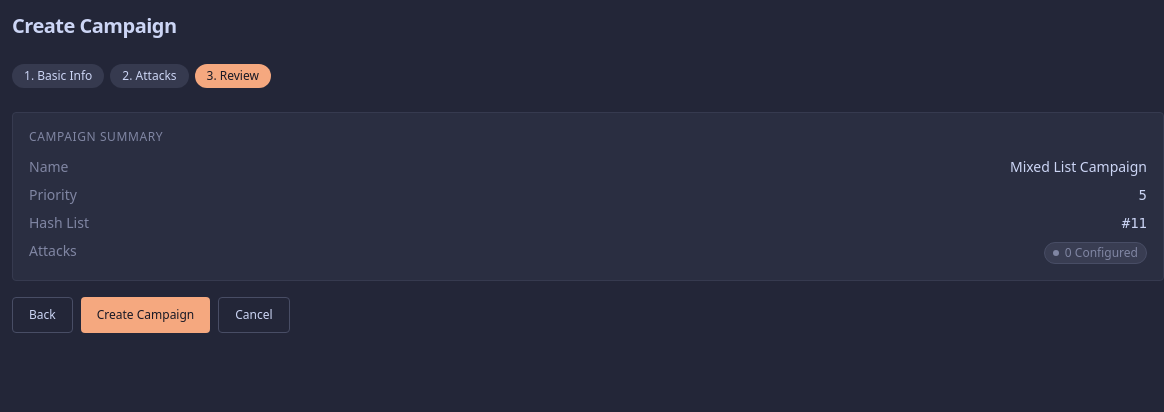
Test case: CampaignCreatePage async split-pending -> status polling (issue #202 SU7) › shows an error banner when the status poll reports empty (no crackable items)
Click the button "Create Campaign": (146, 315) [81,297,210,333]
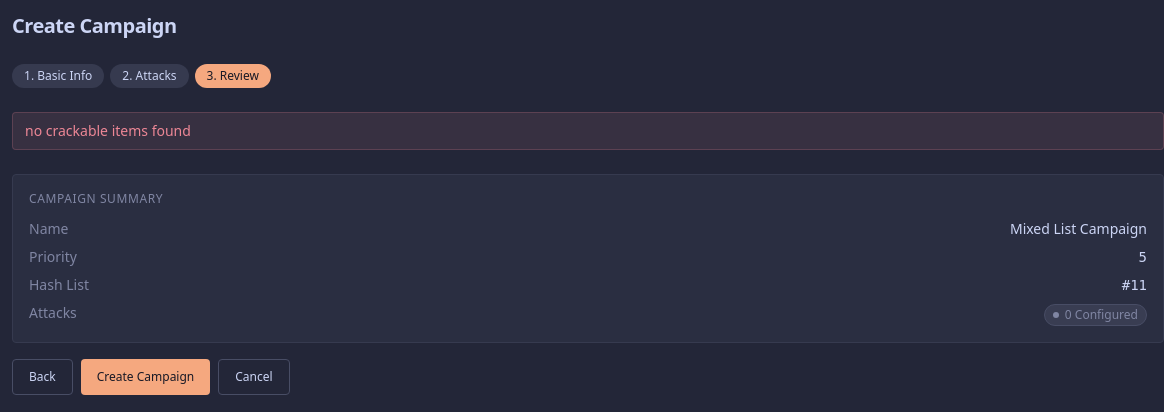
Expected: the button "Create Campaign" is shown, [81,359,210,395]
Result: the text "no crackable items found" is shown at [12,112,1163,150]
